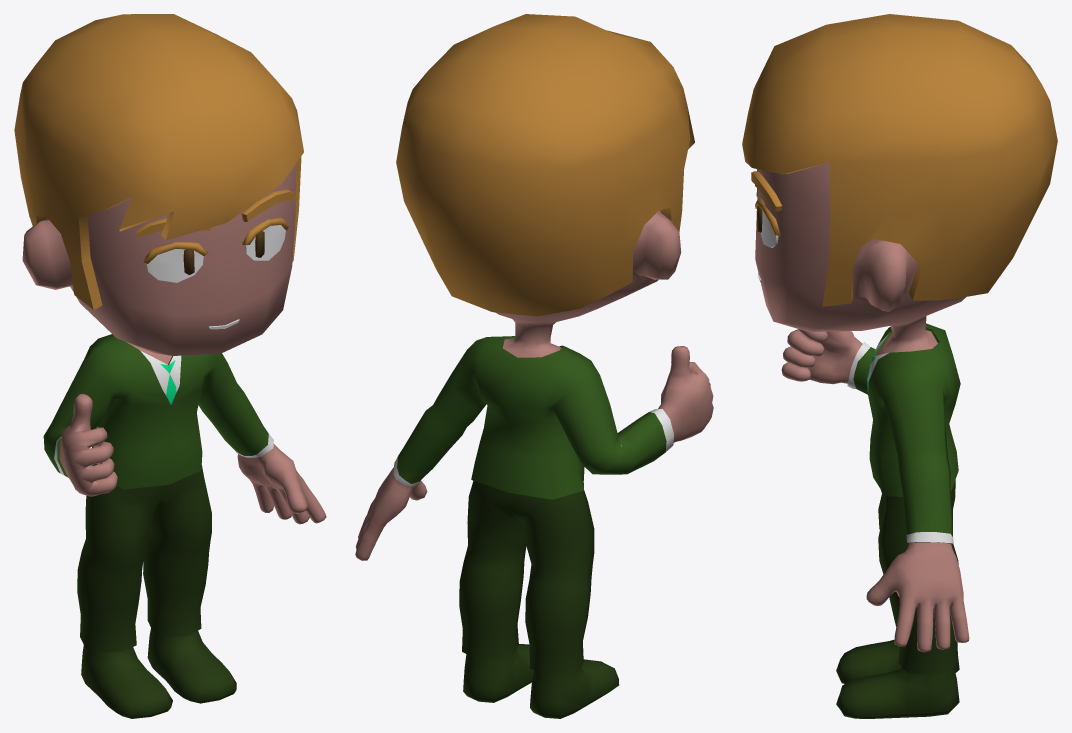
Rendered from Personajes_juzgado.fbx.
3 renders of one model, left to right at view 1: azimuth 30°, elevation 25°; view 2: azimuth 150°, elevation 25°; view 3: azimuth 270°, elevation 25°, orthographic.
Visible parts, largest first — view 1: hair5, body.010, shirt3.010, pants1.010, socks.010, eyesbase2.006, eyebrows1.010, eyes1.001; view 2: hair5, shirt3.010, pants1.010, body.010, socks.010; view 3: hair5, body.010, shirt3.010, socks.010, pants1.010, eyesbase2.006, eyebrows1.010.
Boxes of the visible parts, bbox=[...] form: hair5: bbox=[14, 14, 303, 309]; body.010: bbox=[22, 165, 326, 524]; shirt3.010: bbox=[43, 334, 273, 489]; pants1.010: bbox=[77, 465, 211, 652]; socks.010: bbox=[81, 628, 236, 718]; eyesbase2.006: bbox=[141, 217, 288, 282]; eyebrows1.010: bbox=[136, 189, 295, 237]; eyes1.001: bbox=[183, 231, 264, 274]; hair5: bbox=[396, 14, 694, 316]; shirt3.010: bbox=[393, 336, 673, 499]; pants1.010: bbox=[459, 480, 594, 676]; body.010: bbox=[355, 210, 713, 560]; socks.010: bbox=[463, 644, 619, 718]; hair5: bbox=[742, 14, 1057, 306]; body.010: bbox=[755, 162, 969, 652]; shirt3.010: bbox=[847, 323, 960, 544]; socks.010: bbox=[836, 639, 959, 718]; pants1.010: bbox=[878, 480, 958, 675]; eyesbase2.006: bbox=[755, 185, 780, 247]; eyebrows1.010: bbox=[751, 171, 782, 211].
Size of the model in its own units: 84.5 by 174 by 74.77.
